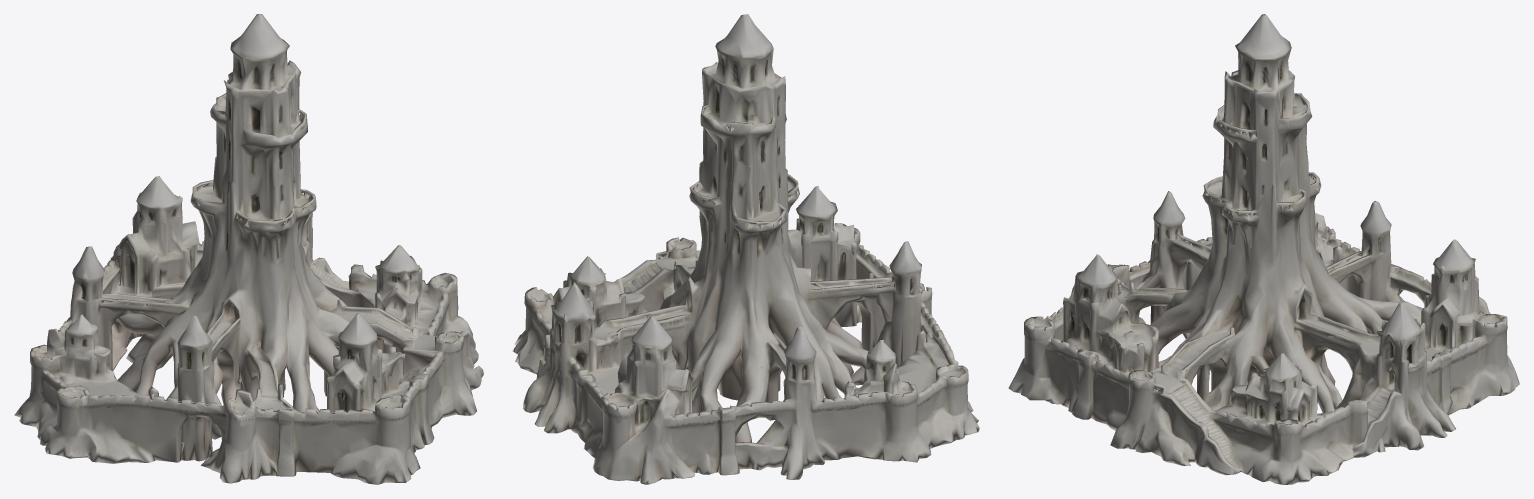
File: Эльфы3.glb
3 renders of one model, left to right at view 1: azimuth 30°, elevation 25°; view 2: azimuth 150°, elevation 25°; view 3: azimuth 270°, elevation 25°, orthographic. The views are drawn at different scales.
Parts seen in each view (by area): view 1: tripo_node_356b2634-9df5-455e-b9e4-00897c202f90; view 2: tripo_node_356b2634-9df5-455e-b9e4-00897c202f90; view 3: tripo_node_356b2634-9df5-455e-b9e4-00897c202f90.
Part boxes in pixels (x1,y1,x2,y2): tripo_node_356b2634-9df5-455e-b9e4-00897c202f90: (14,14,483,484); tripo_node_356b2634-9df5-455e-b9e4-00897c202f90: (512,14,979,484); tripo_node_356b2634-9df5-455e-b9e4-00897c202f90: (1008,14,1519,484).
Size of the model in its own units: 0.9773 by 0.7913 by 1.
Materials: 1 (1 with a texture image).
